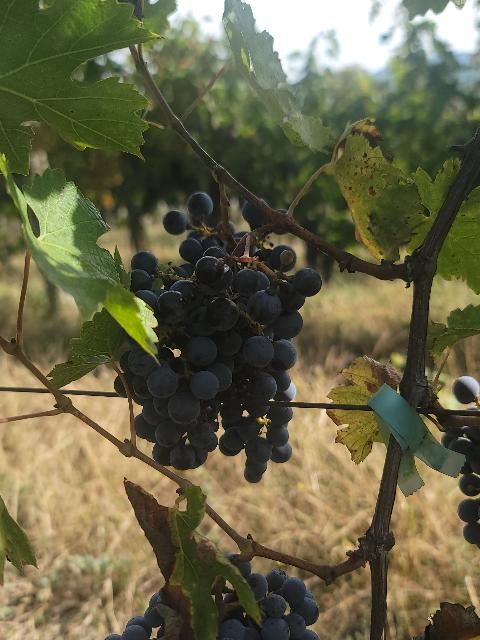grapes: (121, 191, 321, 482), (210, 570, 319, 640), (105, 591, 184, 640), (441, 425, 480, 498), (458, 500, 480, 546), (452, 376, 480, 410)
